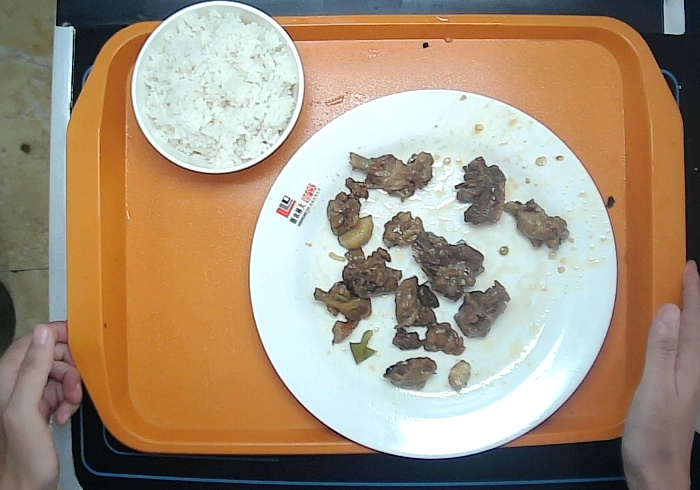ZNLD-Da_Yuan_Pan: (247, 87, 619, 463)
ZNLD-Fan_Wan: (128, 1, 307, 176)
